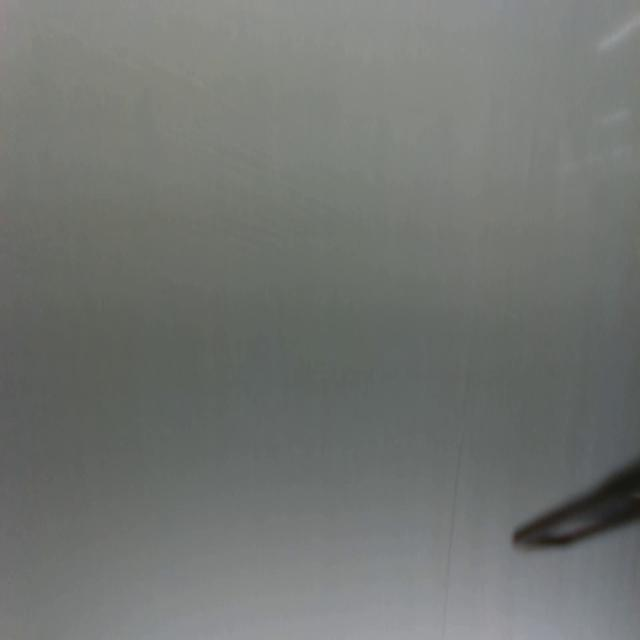crease: (442, 436, 464, 639)
